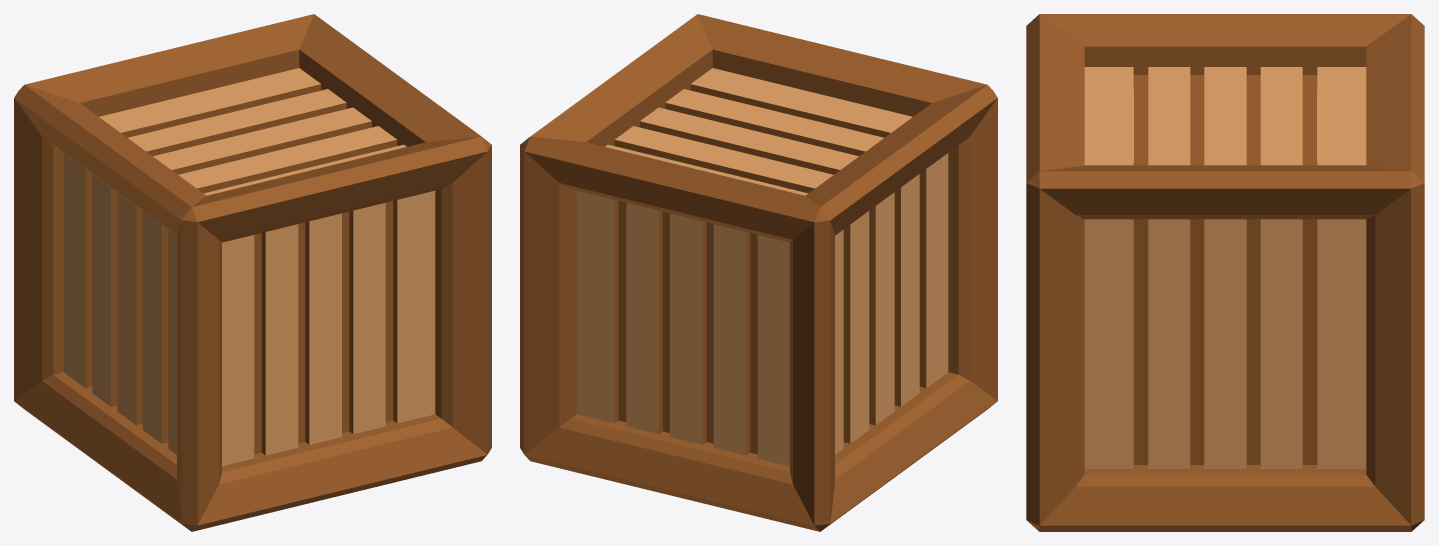
3 renders of one model, left to right at view 1: azimuth 30°, elevation 25°; view 2: azimuth 150°, elevation 25°; view 3: azimuth 270°, elevation 25°, orthographic. The views are drawn at different scales.
Parts seen in each view (by area): view 1: Box C; view 2: Box C; view 3: Box C.
Boxes of the visible parts, box(x1,y1,x2,y2) form: Box C: box(14, 14, 491, 531); Box C: box(520, 14, 997, 531); Box C: box(1026, 14, 1424, 531).
Bounding box in the file's own units: 216 × 216 × 216.
